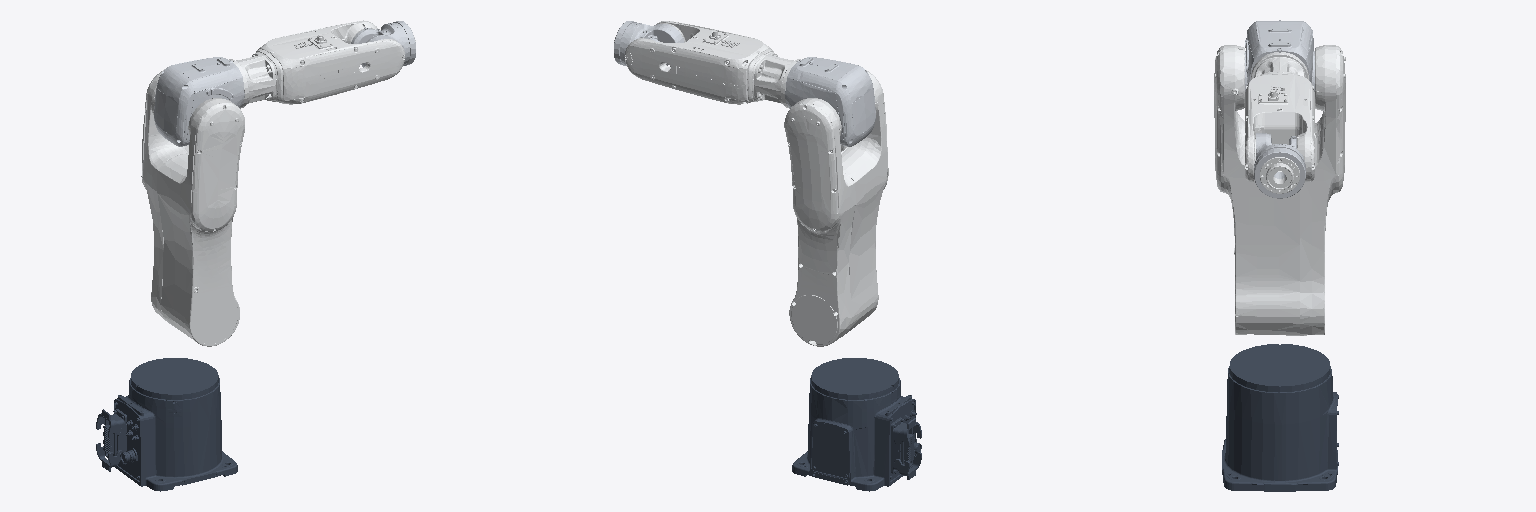
The robot description file, URDF, robot "IR-R7H-90S5-C2H-INT_01741200":
<?xml version="1.0"?>
<!-- Firmware source: params_package/Standard/Body/IR-R7H-90S5-C2H-INT_01741200/IR-R7H-90S5-C2H-INT_01741200.json; SHA256 046967a185c1a6d69178530dc25367a17b8d781563a0e153db695ceda24123d9. -->
<!-- Z-up; STL mm scaled to m. Effective firmware mass properties are SI and transformed into CAD link frames. -->
<!-- Revolute effort is nominal output torque; prismatic effort is ideal screw force. See physics-audit.json for approximations. -->
<robot name="IR-R7H-90S5-C2H-INT_01741200">
  <link name="base_link">

    <visual name="base">
      <origin xyz="0 0 0" rpy="0 0 0"/>
      <geometry>
        <mesh filename="../models/IR-R7H-90/P0.stl" scale="0.001 0.001 0.001"/>
      </geometry>
      <material name="base_material">
        <color rgba="0.31 0.35 0.41 1"/>
      </material>
    </visual>
    <collision name="base_collision">
      <origin xyz="0 0 0" rpy="0 0 0"/>
      <geometry>
        <mesh filename="../models/IR-R7H-90/P0.stl" scale="0.001 0.001 0.001"/>
      </geometry>
    </collision>
  </link>

  <link name="link_1">

    <!-- inertial source: bounding-box-fallback -->
    <!-- Effective firmware principal moments are not physically realizable; no unit guessing applied -->
    <inertial>
      <origin xyz="0.013009899139 -0.000001522064 0.306500595093" rpy="0 0 0"/>
      <mass value="4.862"/>
      <inertia ixx="0.042399084619" ixy="0" ixz="0" iyy="0.035228976591" iyz="0" izz="0.041550803878"/>
    </inertial>

    <visual name="link_1">
      <origin xyz="0 0 0" rpy="0 0 0"/>
      <geometry>
        <mesh filename="../models/IR-R7H-90/P1.stl" scale="0.001 0.001 0.001"/>
      </geometry>
      <material name="link_1_material">
        <color rgba="0.84 0.86 0.89 1"/>
      </material>
    </visual>
    <collision name="link_1_collision">
      <origin xyz="0 0 0" rpy="0 0 0"/>
      <geometry>
        <mesh filename="../models/IR-R7H-90/P1.stl" scale="0.001 0.001 0.001"/>
      </geometry>
    </collision>
  </link>

  <link name="link_2">

    <!-- inertial source: firmware-effective-si -->
    <inertial>
      <origin xyz="-0.00727 -0.0196 0.188" rpy="0 0 0"/>
      <mass value="9.718"/>
      <inertia ixx="0.308" ixy="0" ixz="0" iyy="0.28" iyz="0" izz="0.0507"/>
    </inertial>

    <visual name="link_2">
      <origin xyz="-0.05 0 -0.35" rpy="0 0 0"/>
      <geometry>
        <mesh filename="../models/IR-R7H-90/P2.stl" scale="0.001 0.001 0.001"/>
      </geometry>
      <material name="link_2_material">
        <color rgba="0.94 0.95 0.96 1"/>
      </material>
    </visual>
    <collision name="link_2_collision">
      <origin xyz="-0.05 0 -0.35" rpy="0 0 0"/>
      <geometry>
        <mesh filename="../models/IR-R7H-90/P2.stl" scale="0.001 0.001 0.001"/>
      </geometry>
    </collision>
  </link>

  <link name="link_3">

    <!-- inertial source: firmware-effective-si -->
    <inertial>
      <origin xyz="0.00659 -0.0107 0.012" rpy="0 0 0"/>
      <mass value="3.704"/>
      <inertia ixx="0.0119" ixy="0" ixz="0" iyy="0.0123" iyz="0" izz="0.0126"/>
    </inertial>

    <visual name="link_3">
      <origin xyz="-0.05 0 -0.79" rpy="0 0 0"/>
      <geometry>
        <mesh filename="../models/IR-R7H-90/P3.stl" scale="0.001 0.001 0.001"/>
      </geometry>
      <material name="link_3_material">
        <color rgba="0.84 0.86 0.89 1"/>
      </material>
    </visual>
    <collision name="link_3_collision">
      <origin xyz="-0.05 0 -0.79" rpy="0 0 0"/>
      <geometry>
        <mesh filename="../models/IR-R7H-90/P3.stl" scale="0.001 0.001 0.001"/>
      </geometry>
    </collision>
  </link>

  <link name="link_4">

    <!-- inertial source: firmware-effective-si -->
    <inertial>
      <origin xyz="0.25 -0.00256 -0.000151" rpy="0 0 0"/>
      <mass value="5.015"/>
      <inertia ixx="0.00985" ixy="0" ixz="0" iyy="0.0621" iyz="0" izz="0.0634"/>
    </inertial>

    <visual name="link_4">
      <origin xyz="-0.05 0 -0.83" rpy="0 0 0"/>
      <geometry>
        <mesh filename="../models/IR-R7H-90/P4.stl" scale="0.001 0.001 0.001"/>
      </geometry>
      <material name="link_4_material">
        <color rgba="0.94 0.95 0.96 1"/>
      </material>
    </visual>
    <collision name="link_4_collision">
      <origin xyz="-0.05 0 -0.83" rpy="0 0 0"/>
      <geometry>
        <mesh filename="../models/IR-R7H-90/P4.stl" scale="0.001 0.001 0.001"/>
      </geometry>
    </collision>
  </link>

  <link name="link_5">

    <!-- inertial source: firmware-effective-si -->
    <inertial>
      <origin xyz="0.0226 -0.0025 -0.0000488" rpy="0 0 0"/>
      <mass value="1.387"/>
      <inertia ixx="0.00165" ixy="0" ixz="0" iyy="0.00185" iyz="0" izz="0.00223"/>
    </inertial>

    <visual name="link_5">
      <origin xyz="-0.47 0 -0.83" rpy="0 0 0"/>
      <geometry>
        <mesh filename="../models/IR-R7H-90/P5.stl" scale="0.001 0.001 0.001"/>
      </geometry>
      <material name="link_5_material">
        <color rgba="0.84 0.86 0.89 1"/>
      </material>
    </visual>
    <collision name="link_5_collision">
      <origin xyz="-0.47 0 -0.83" rpy="0 0 0"/>
      <geometry>
        <mesh filename="../models/IR-R7H-90/P5.stl" scale="0.001 0.001 0.001"/>
      </geometry>
    </collision>
  </link>

  <link name="link_6">

    <!-- inertial source: firmware-effective-si -->
    <inertial>
      <origin xyz="-0.0129 0.00000521 -0.0000167" rpy="0 0 0"/>
      <mass value="0.614"/>
      <inertia ixx="0.000572" ixy="0" ixz="0" iyy="0.000372" iyz="0" izz="0.000376"/>
    </inertial>

    <visual name="link_6">
      <origin xyz="-0.548 0 -0.83" rpy="0 0 0"/>
      <geometry>
        <mesh filename="../models/IR-R7H-90/P6.stl" scale="0.001 0.001 0.001"/>
      </geometry>
      <material name="link_6_material">
        <color rgba="0.94 0.95 0.96 1"/>
      </material>
    </visual>
    <collision name="link_6_collision">
      <origin xyz="-0.548 0 -0.83" rpy="0 0 0"/>
      <geometry>
        <mesh filename="../models/IR-R7H-90/P6.stl" scale="0.001 0.001 0.001"/>
      </geometry>
    </collision>
  </link>

  <joint name="J1" type="revolute">
    <parent link="base_link"/>
    <child link="link_1"/>
    <origin xyz="0 0 0" rpy="0 0 0"/>
    <axis xyz="0 0 1"/>
    <limit lower="-2.96705972839" upper="2.96705972839" effort="173.91304" velocity="5.864306286701"/>
  </joint>

  <joint name="J2" type="revolute">
    <parent link="link_1"/>
    <child link="link_2"/>
    <origin xyz="0.05 0 0.35" rpy="0 0 0"/>
    <axis xyz="0 -1 0"/>
    <limit lower="-2.356194490192" upper="1.396263401595" effort="193.6" velocity="4.886921905584"/>
  </joint>

  <joint name="J3" type="revolute">
    <parent link="link_2"/>
    <child link="link_3"/>
    <origin xyz="0 0 0.44" rpy="0 0 0"/>
    <axis xyz="0 -1 0"/>
    <limit lower="-1.221730476396" upper="3.316125578789" effort="106.68" velocity="6.806784082778"/>
  </joint>

  <joint name="J4" type="revolute">
    <parent link="link_3"/>
    <child link="link_4"/>
    <origin xyz="0 0 0.04" rpy="0 0 0"/>
    <axis xyz="1 0 0"/>
    <limit lower="-3.316125578789" upper="3.316125578789" effort="33.3333312" velocity="9.599310885969"/>
  </joint>

  <joint name="J5" type="revolute">
    <parent link="link_4"/>
    <child link="link_5"/>
    <origin xyz="0.42 0 0" rpy="0 0 0"/>
    <axis xyz="0 -1 0"/>
    <limit lower="-2.094395102393" upper="2.094395102393" effort="25.463421" velocity="7.644542123735"/>
  </joint>

  <joint name="J6" type="revolute">
    <parent link="link_5"/>
    <child link="link_6"/>
    <origin xyz="0.078 0 0" rpy="0 0 0"/>
    <axis xyz="1 0 0"/>
    <limit lower="-6.28318530718" upper="6.28318530718" effort="23.799984" velocity="13.346532790001"/>
  </joint>

  <link name="tool0"/>
  <joint name="tool0_fixed" type="fixed">
    <parent link="link_6"/>
    <child link="tool0"/>
    <origin xyz="0 0 0" rpy="3.14159265359 -1.570796326795 0"/>
  </joint>
</robot>

--- Facts derived from the render (not from the file) ---
Views: 3 orthographic renders of the robot side by side, from view 1: azimuth 30°, elevation 25°; view 2: azimuth 150°, elevation 25°; view 3: azimuth 270°, elevation 25°.
Model IR-R7H-90S5-C2H-INT_01741200 with 8 links and 7 joints (6 revolute, 1 fixed), rooted at base_link, posed every joint at zero.
Visible links, largest first — view 1: link_2, base_link, link_4, link_3, link_5; view 2: link_2, base_link, link_4, link_3, link_5; view 3: link_2, base_link, link_4, link_3, link_5, link_6.
Link boxes in pixels (box(x1,y1,x2,y2)): link_2: box(141, 69, 244, 346); base_link: box(96, 358, 237, 491); link_4: box(229, 20, 404, 108); link_3: box(154, 57, 244, 146); link_5: box(351, 21, 415, 67); link_2: box(784, 70, 888, 346); base_link: box(792, 358, 921, 491); link_4: box(624, 21, 800, 108); link_3: box(785, 57, 875, 146); link_5: box(614, 21, 683, 65); link_2: box(1214, 45, 1345, 335); base_link: box(1222, 344, 1338, 491); link_4: box(1245, 52, 1314, 181); link_3: box(1245, 20, 1314, 91); link_5: box(1254, 133, 1305, 198); link_6: box(1260, 157, 1299, 193).
Size in the robot's own frame: 0.7169 by 0.235 by 0.8993 metres.
6 mesh visuals loaded from 7 distinct referenced files (6 binary STL); not drawn: 1 (reference not matched to a file when rendering).
